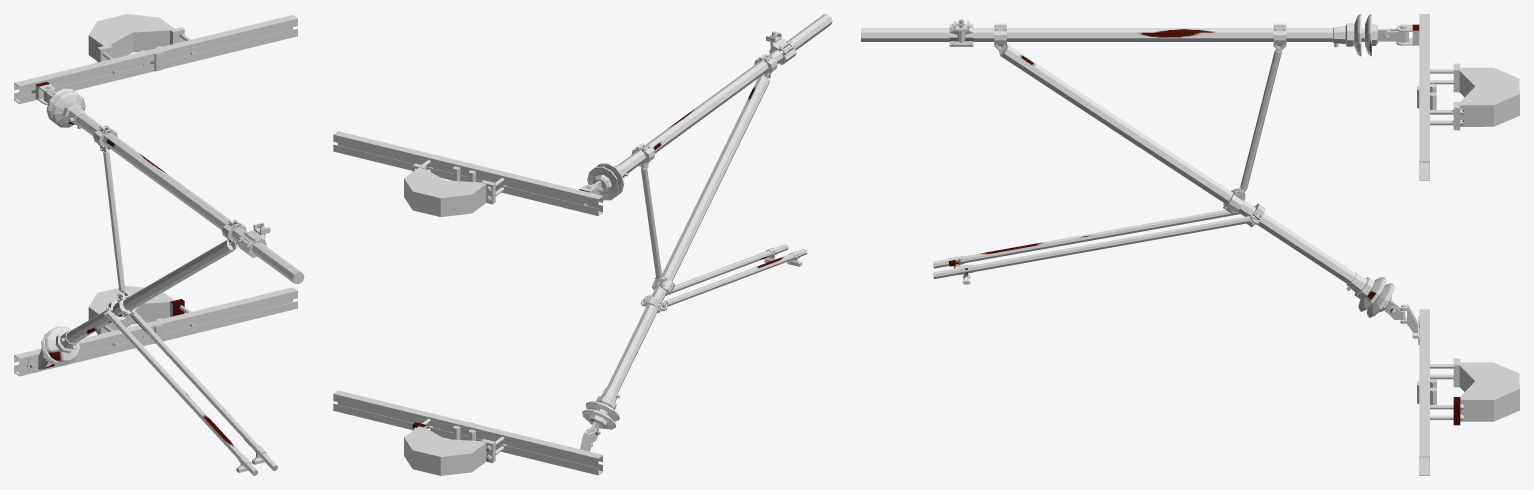
File: Bracket5aL.obj
3 renders of one model, left to right at view 1: azimuth 30°, elevation 25°; view 2: azimuth 150°, elevation 25°; view 3: azimuth 270°, elevation 25°, orthographic. The views are drawn at different scales.
Visible parts, largest first — view 1: obj2, obj4, obj1, obj7, obj3, obj8; view 2: obj2, obj4, obj1, obj7, obj3, obj8; view 3: obj2, obj1, obj8, obj4, obj7.
Boxes of the visible parts, x1,y1,x2,y2 form: obj2: (27,82,304,475); obj4: (14,15,297,104); obj1: (88,14,190,338); obj7: (14,287,297,365); obj3: (14,299,297,376); obj8: (88,40,196,345); obj2: (573,14,832,451); obj4: (333,131,602,215); obj1: (404,160,504,466); obj7: (333,390,602,465); obj3: (333,402,602,475); obj8: (404,167,506,475); obj2: (861,14,1419,344); obj1: (1430,63,1519,414); obj8: (1430,80,1519,425); obj4: (1419,14,1429,180); obj7: (1419,309,1429,464).
Size of the model in its own units: 1.19 by 1.23 by 2.24.
Materials: 1 (1 with a texture image).
